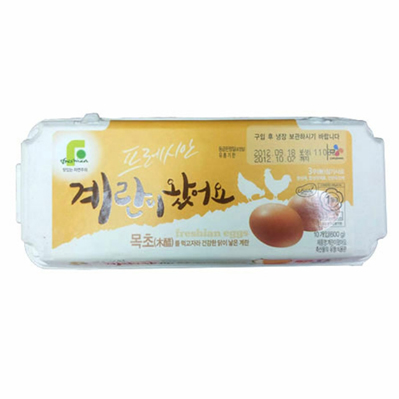egg: (248, 191, 339, 249)
